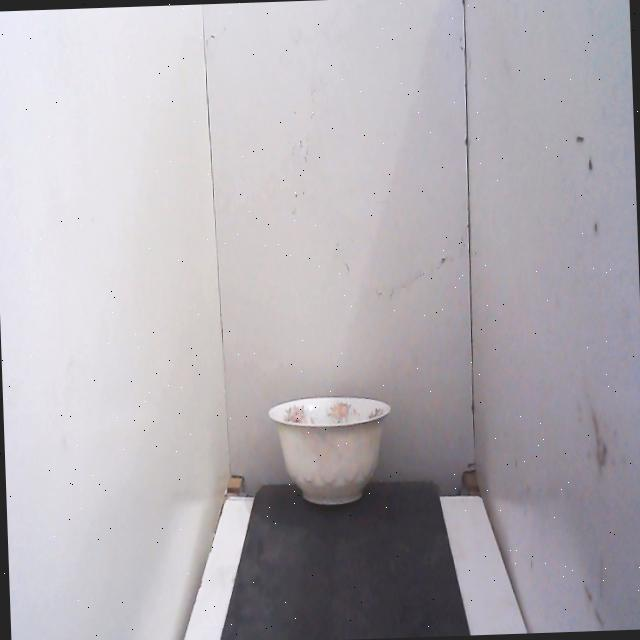plastico: (251, 334, 404, 560)
